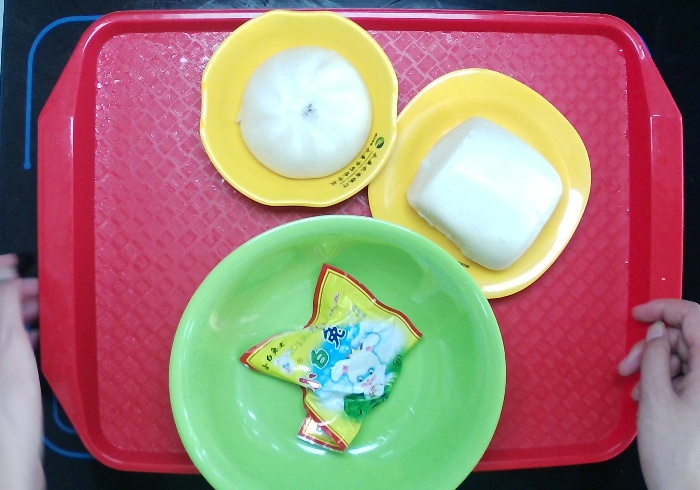YKMZ-Huang_Se_Ao_Bian_Wan: (195, 8, 401, 209)
YKMZ-Huang_Se_Fang_Die: (363, 66, 592, 303)
YKMZ-Lv_Se_Tang_Wan: (165, 214, 510, 490)
